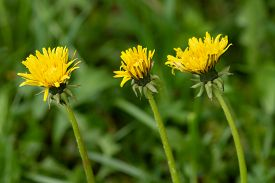dandelion: (19, 41, 89, 102), (166, 33, 240, 76), (107, 38, 161, 91)
